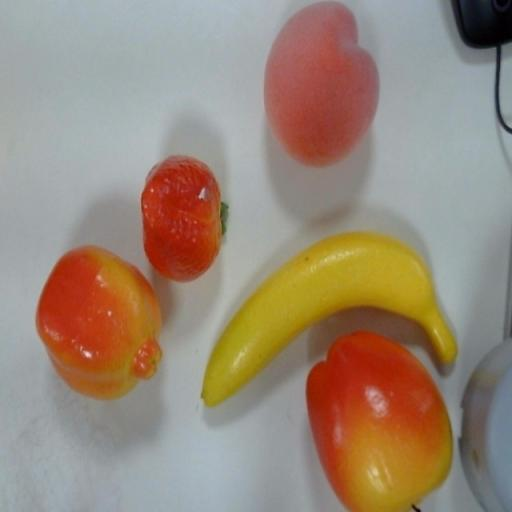Ripe: (198, 224, 460, 414), (301, 323, 459, 512), (34, 240, 167, 408), (259, 0, 384, 168), (138, 151, 226, 288)
